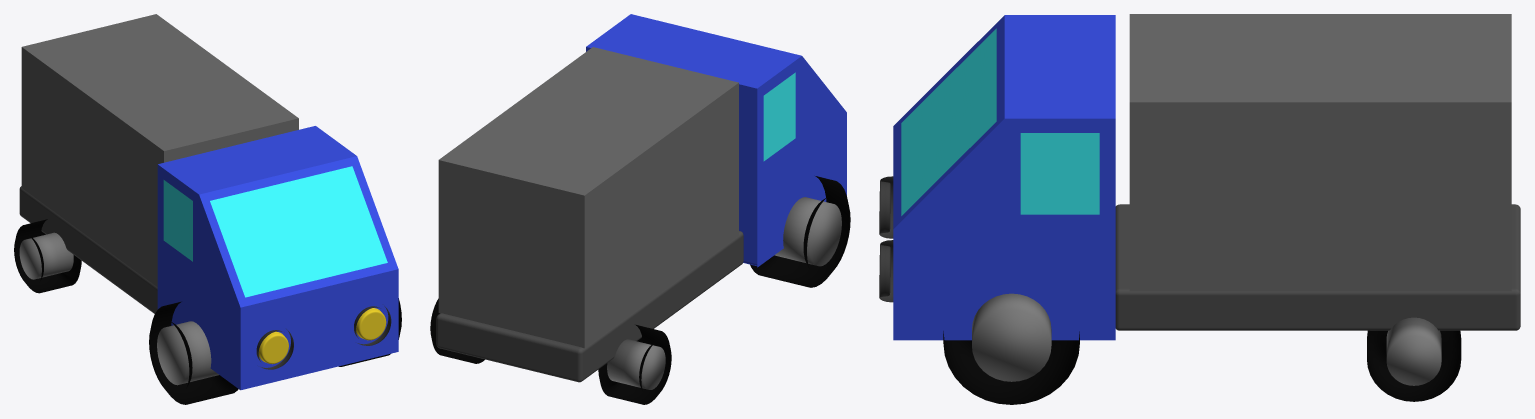
File: track.fbx
3 renders of one model, left to right at view 1: azimuth 30°, elevation 25°; view 2: azimuth 150°, elevation 25°; view 3: azimuth 270°, elevation 25°, orthographic. The views are drawn at different scales.
Visible parts, largest first — view 1: 立方体.004, 立方体.018, 立方体.014, 立方体.010, 立方体.019, 立方体.012, 立方体, 立方体.017, 立方体.002, 立方体.009, 立方体.015, 立方体.021 (+9 smaller); view 2: 立方体.010, 立方体, 立方体.014, 立方体.009, 立方体.019, 立方体.015, 立方体.011, 立方体.012, 立方体.021, 立方体.006, 立方体.017, 立方体.002 (+8 smaller); view 3: 立方体.009, 立方体.012, 立方体.011, 立方体.013, 立方体.016, 立方体.020, 立方体.019, 立方体.004, 立方体.007, 立方体.010, 立方体.014, 立方体.008 (+9 smaller).
Part boxes in pixels (x1=…): 立方体.004: x1=210, y1=166, x2=387, y2=297; 立方体.018: x1=240, y1=269, x2=398, y2=389; 立方体.014: x1=93, y1=82, x2=231, y2=216; 立方体.010: x1=21, y1=30, x2=159, y2=169; 立方体.019: x1=158, y1=126, x2=356, y2=194; 立方体.012: x1=160, y1=66, x2=298, y2=145; 立方体: x1=21, y1=118, x2=92, y2=239; 立方体.017: x1=199, y1=195, x2=240, y2=389; 立方体.002: x1=199, y1=156, x2=398, y2=307; 立方体.009: x1=89, y1=14, x2=227, y2=82; 立方体.015: x1=93, y1=170, x2=157, y2=287; 立方体.021: x1=157, y1=164, x2=198, y2=325; 立方体.010: x1=511, y1=121, x2=661, y2=271; 立方体: x1=511, y1=216, x2=661, y2=348; 立方体.014: x1=589, y1=65, x2=738, y2=214; 立方体.009: x1=438, y1=103, x2=588, y2=253; 立方体.019: x1=586, y1=14, x2=801, y2=88; 立方体.015: x1=662, y1=159, x2=738, y2=291; 立方体.011: x1=438, y1=236, x2=511, y2=330; 立方体.012: x1=516, y1=47, x2=665, y2=121; 立方体.021: x1=757, y1=56, x2=801, y2=267; 立方体.006: x1=508, y1=292, x2=662, y2=382; 立方体.017: x1=802, y1=56, x2=846, y2=201; 立方体.002: x1=586, y1=47, x2=757, y2=265; 立方体.009: x1=1320, y1=58, x2=1511, y2=196; 立方体.012: x1=1129, y1=58, x2=1320, y2=196; 立方体.011: x1=1320, y1=196, x2=1511, y2=291; 立方体.013: x1=1129, y1=196, x2=1320, y2=291; 立方体.016: x1=893, y1=119, x2=1004, y2=340; 立方体.020: x1=1004, y1=118, x2=1115, y2=340; 立方体.019: x1=1004, y1=15, x2=1115, y2=118; 立方体.004: x1=901, y1=28, x2=996, y2=215; 立方体.007: x1=1115, y1=247, x2=1317, y2=330; 立方体.010: x1=1320, y1=14, x2=1511, y2=57; 立方体.014: x1=1129, y1=14, x2=1320, y2=57; 立方体.008: x1=1317, y1=247, x2=1520, y2=330.
Bounding box in the file's own units: 3.15 × 2.99 × 6.15.
